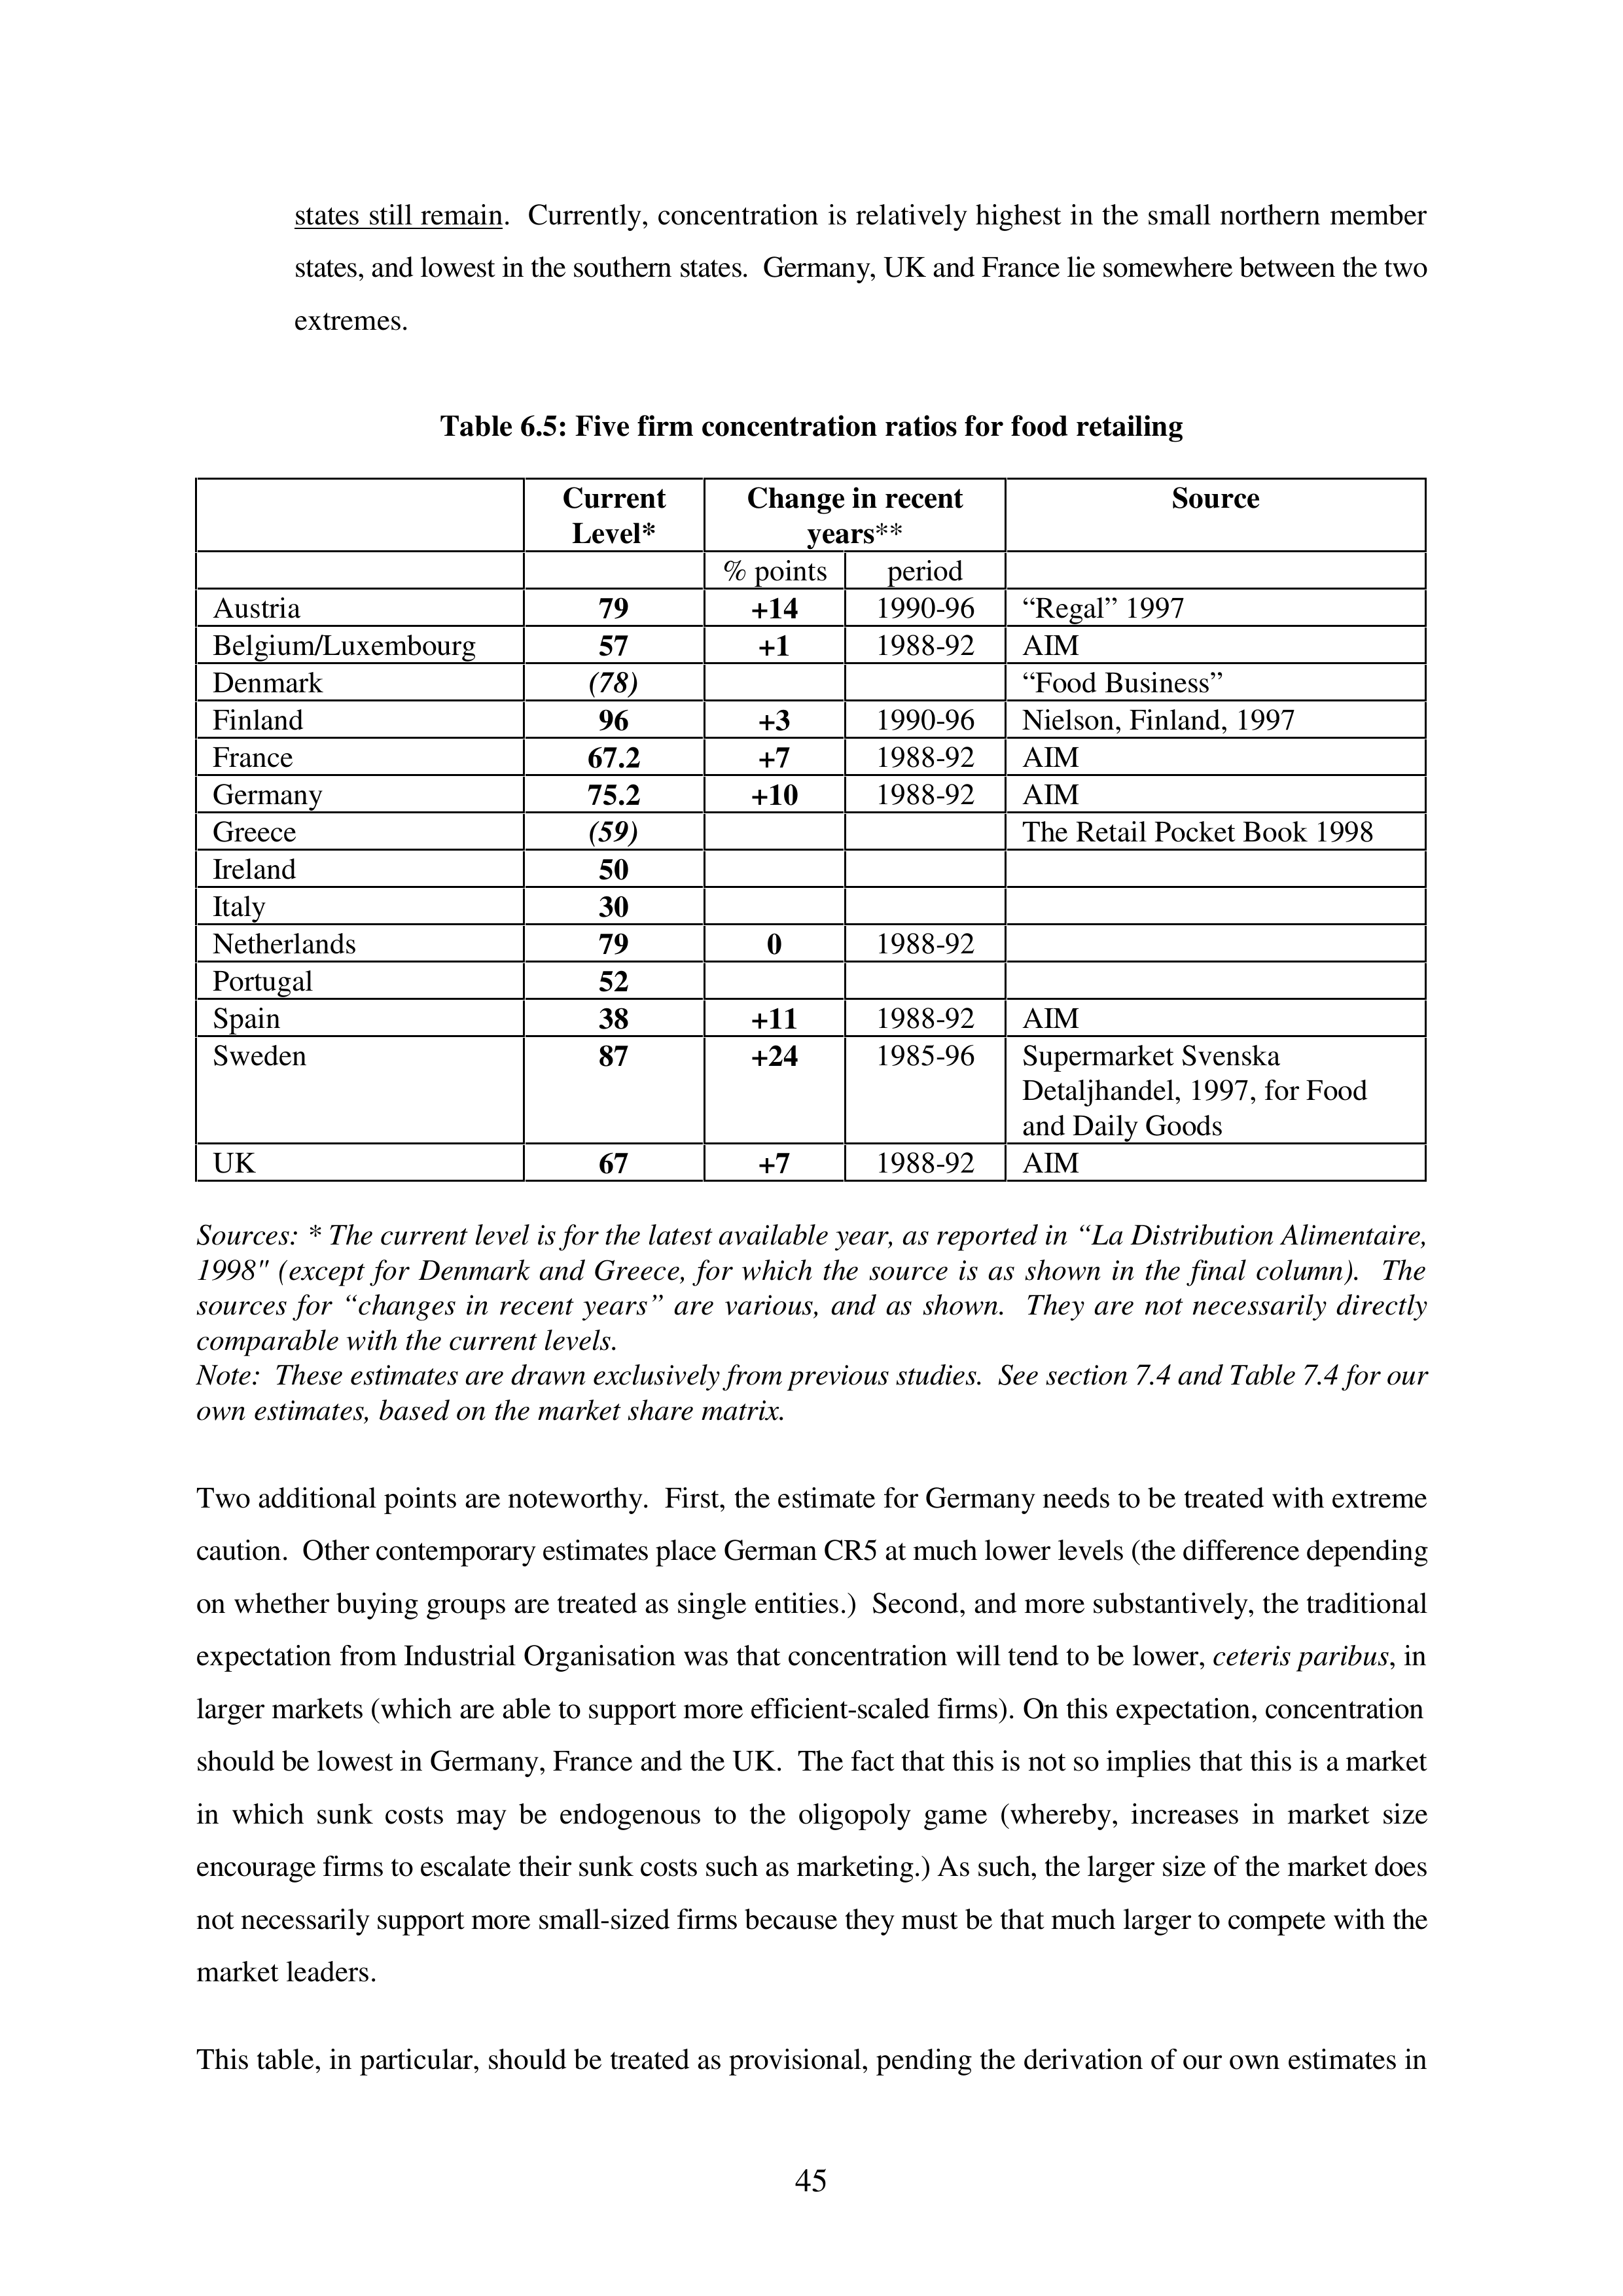table: (193, 476, 1428, 1183)
